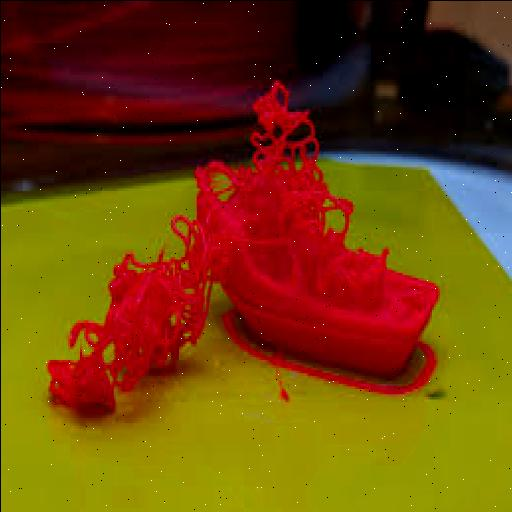spaghetti: (53, 99, 381, 393)
